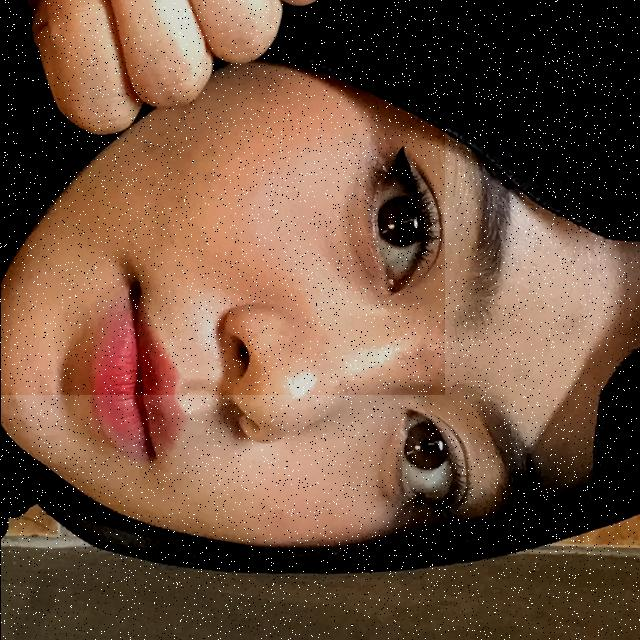sedih: (0, 0, 444, 395)
